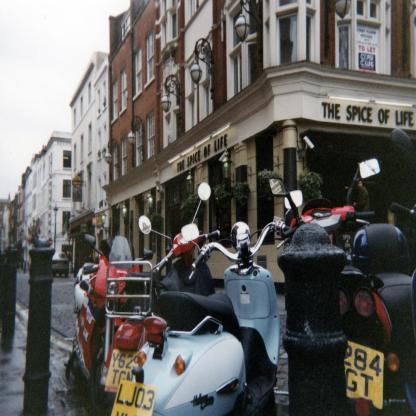Car: (53, 254, 70, 281)
